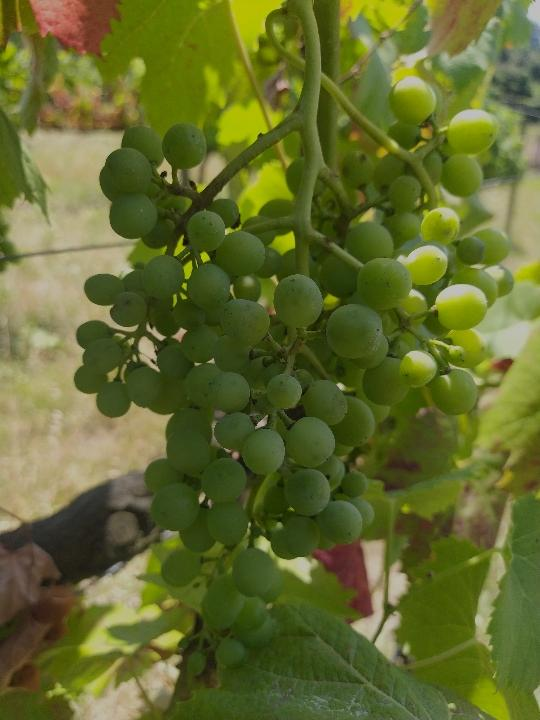grape: (69, 74, 517, 693)
